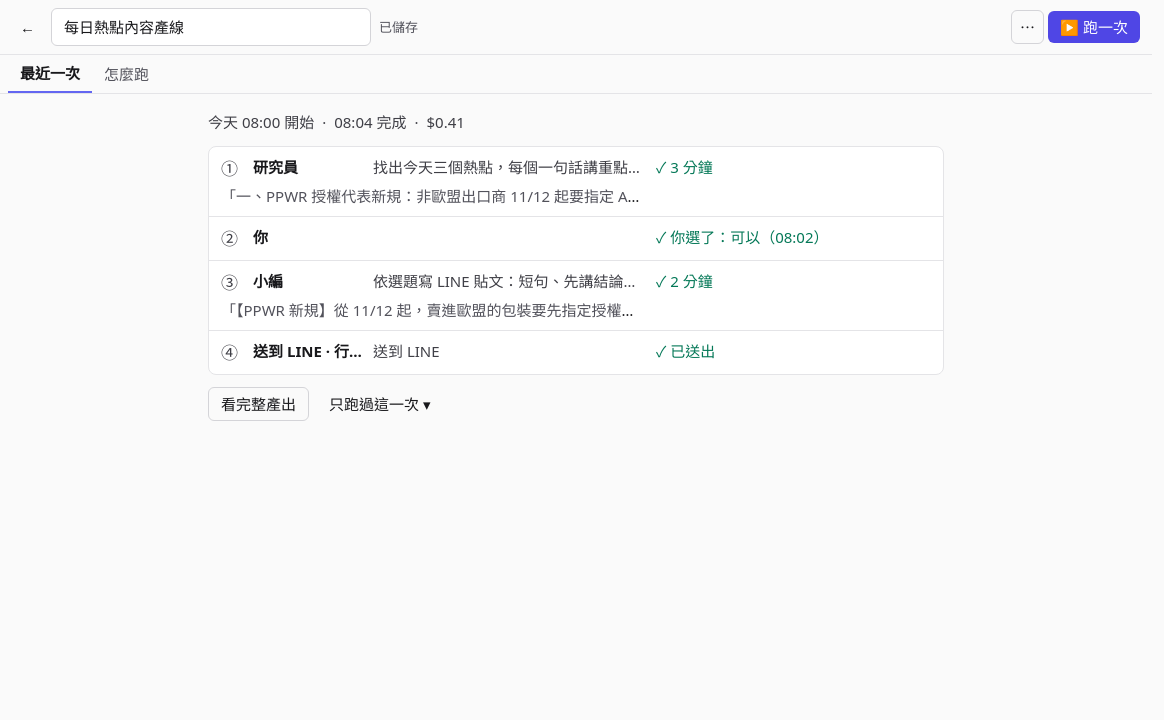
Test: EditorPage：兩個分頁 › ⋯ 平常只有匯出；工程師模式才有畫布／逐步回放／之前跑過的，畫布切得過去也回得來
The image size is (1164, 720).
Expected: the element with test id "last-run-view" is shown, 192,94 -> 960,437
Click the button with test id "wf-more" at x=1028, y=27, box 1011,10 -> 1044,44
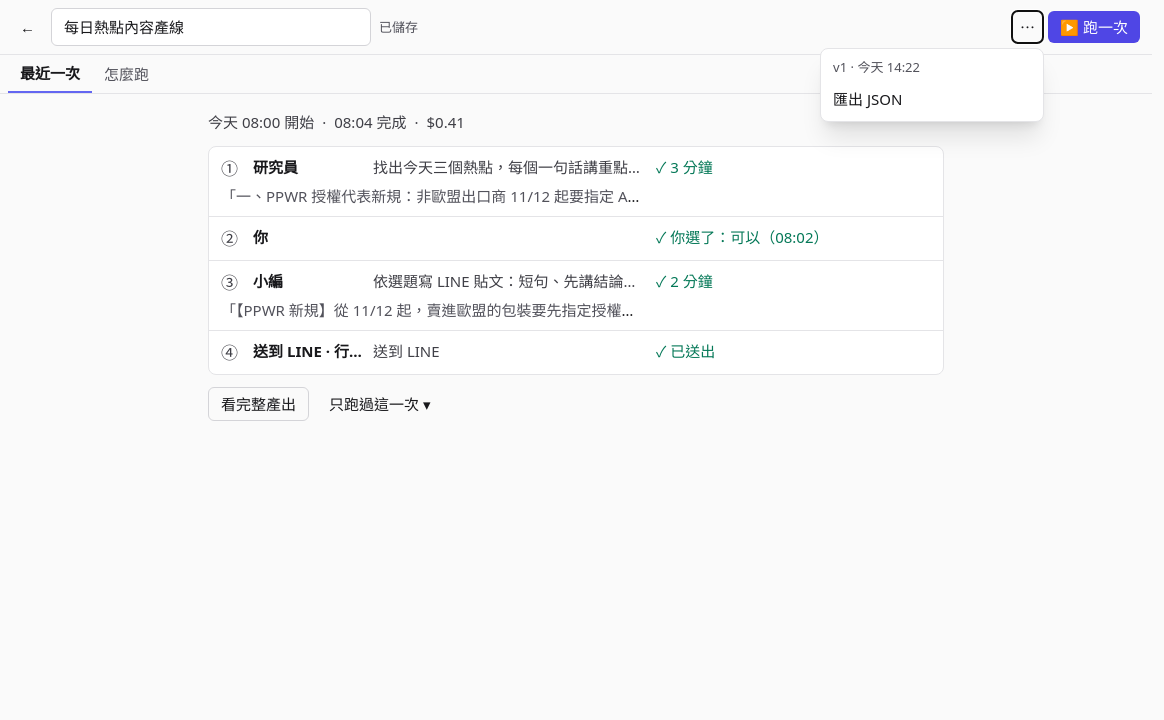
Expected: the text "畫布" is not shown
Expected: the menu item "匯出 JSON" is shown, 821,81 -> 1043,117
Press Escape
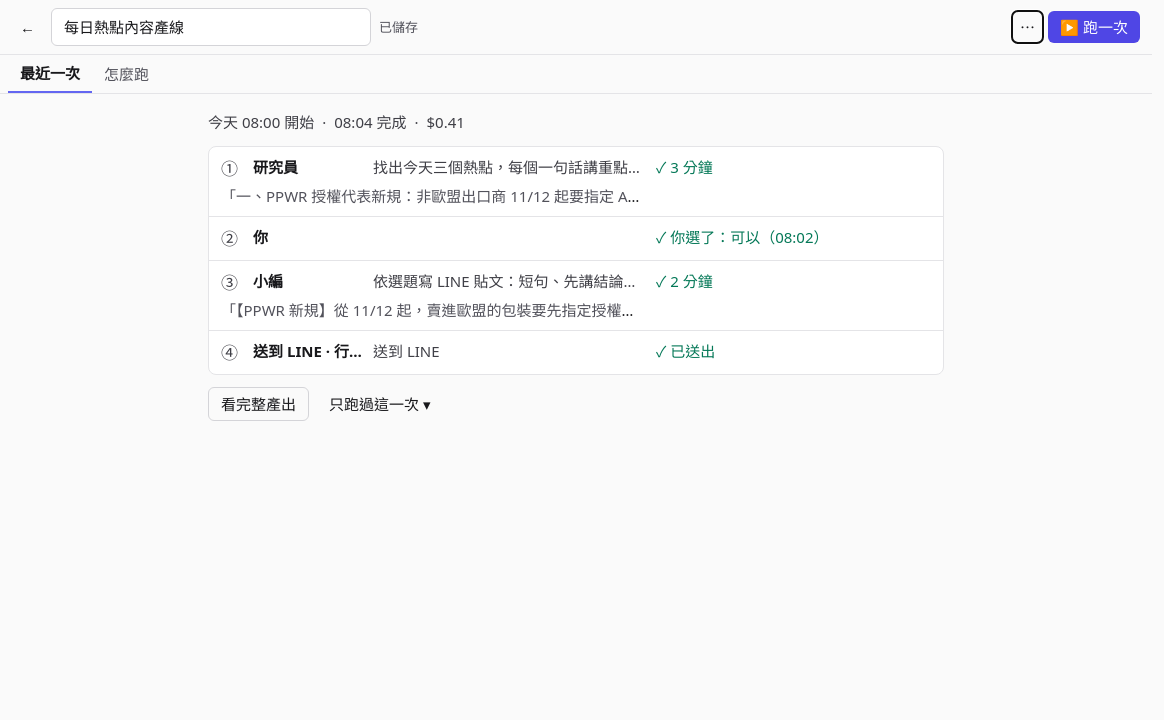
Click the button with test id "wf-more" at x=1028, y=27, box 1011,10 -> 1044,44
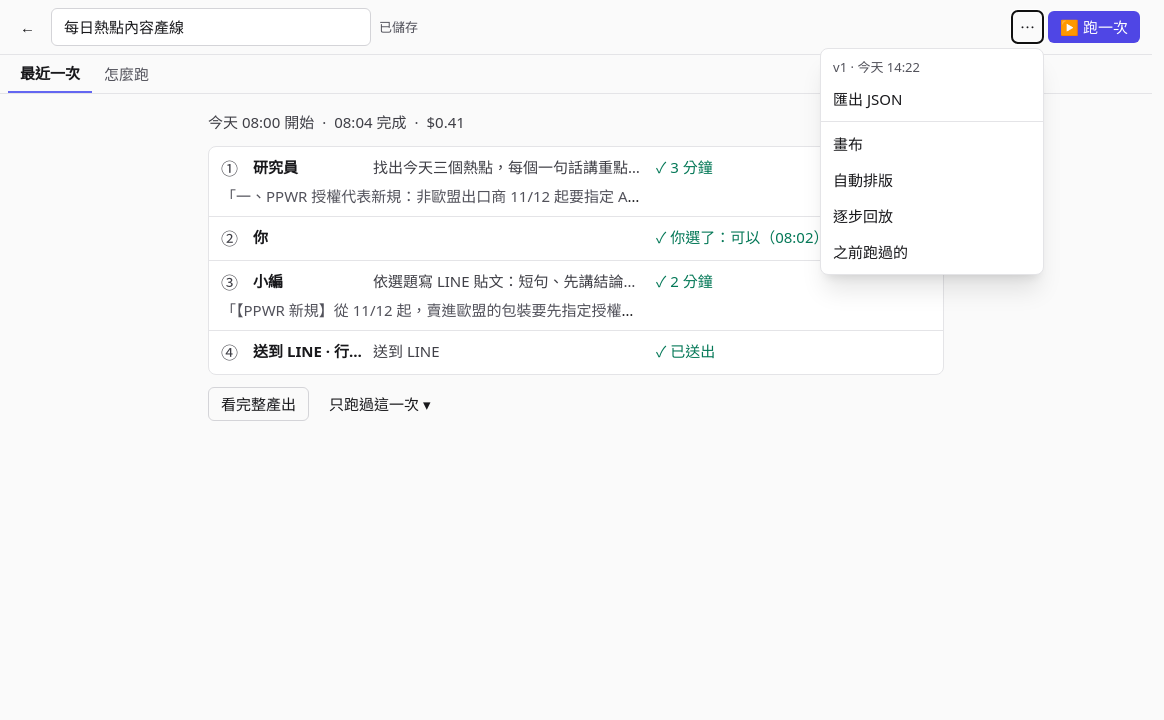
Expected: the menu item with test id "menu-advanced" reads "畫布"
Expected: the menu item with test id "menu-history" reads "之前跑過的", 821,234 -> 1043,270
Click the menu item with test id "menu-advanced" at x=932, y=144, box 821,126 -> 1043,162
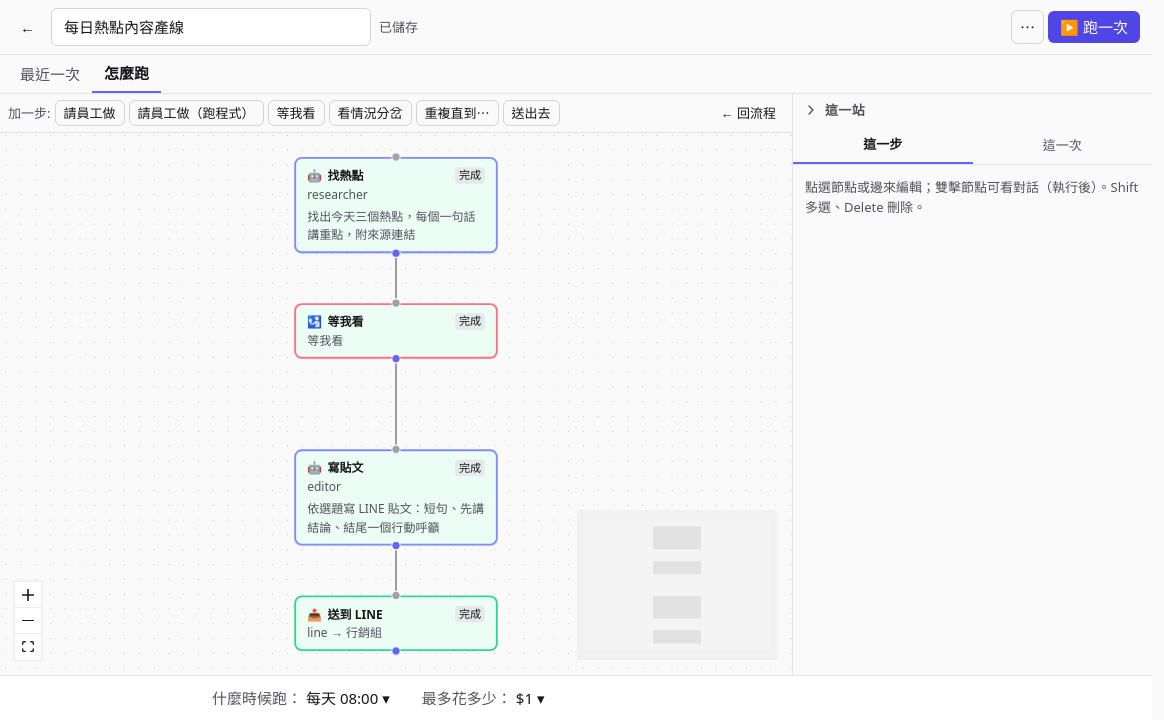
Expected: the element with test id "canvas-toolbar" is shown, 0,94 -> 792,133
Click the button with test id "canvas-back" at x=748, y=113, box 713,101 -> 784,125
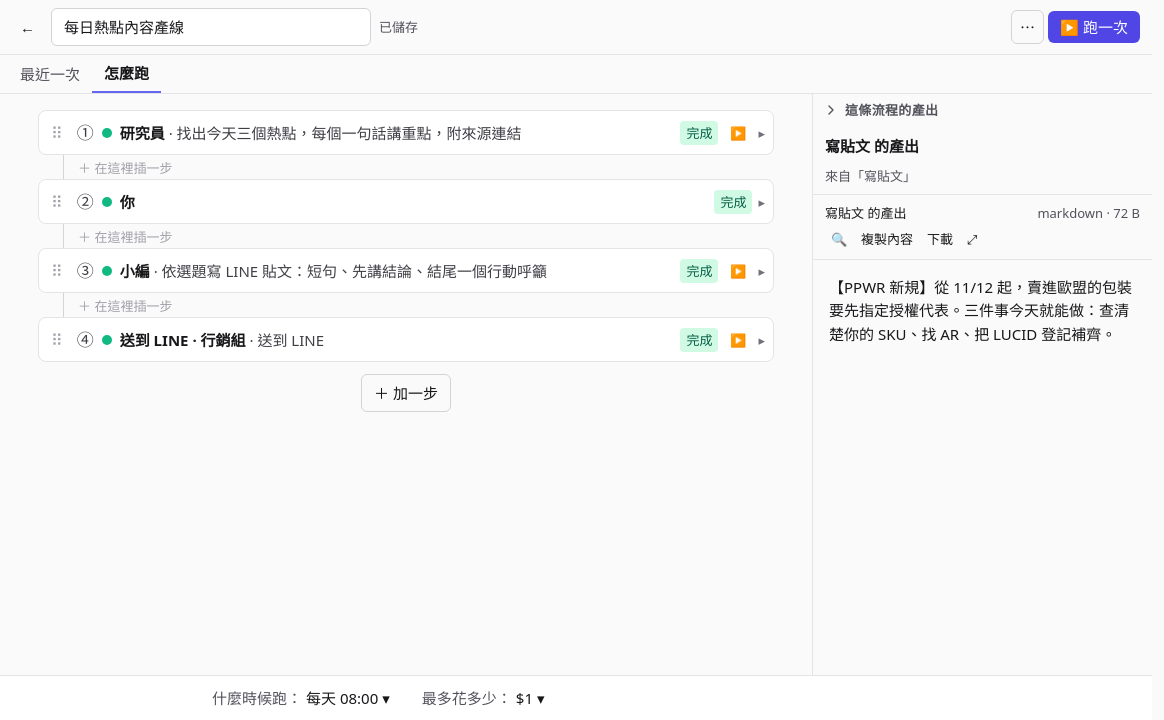
Expected: the element with test id "stations-view" is shown, 22,94 -> 790,428
